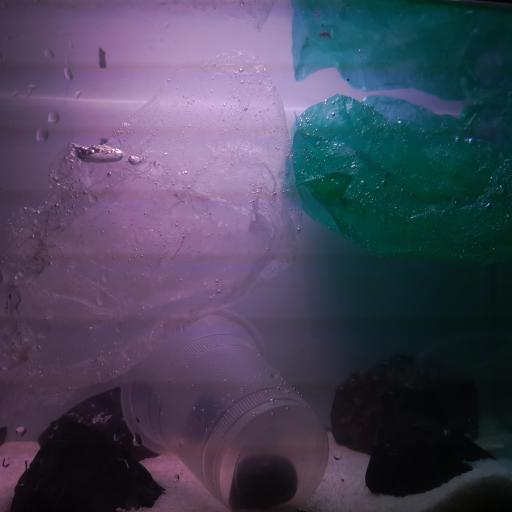plastic_bag: (0, 49, 313, 420), (281, 18, 512, 267)
plastic_cup: (118, 304, 330, 512), (414, 325, 512, 448)
